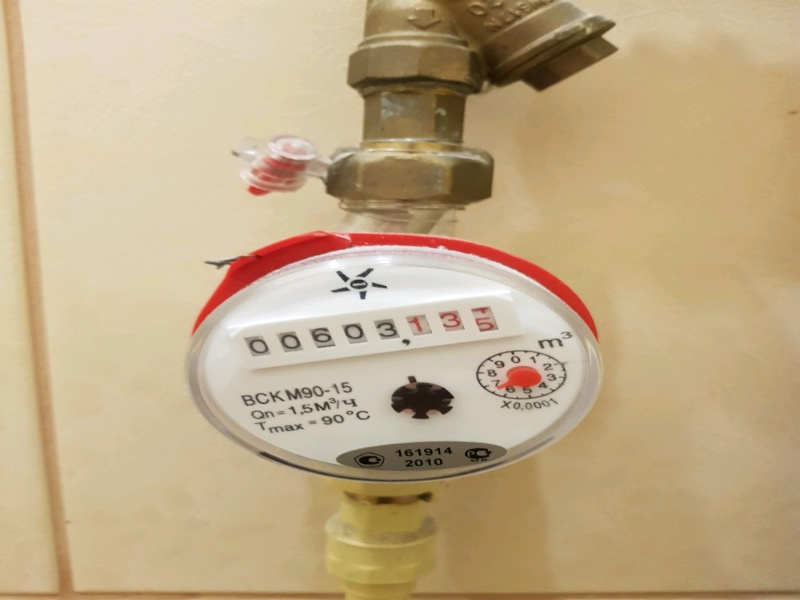meter: (230, 309, 498, 357)
